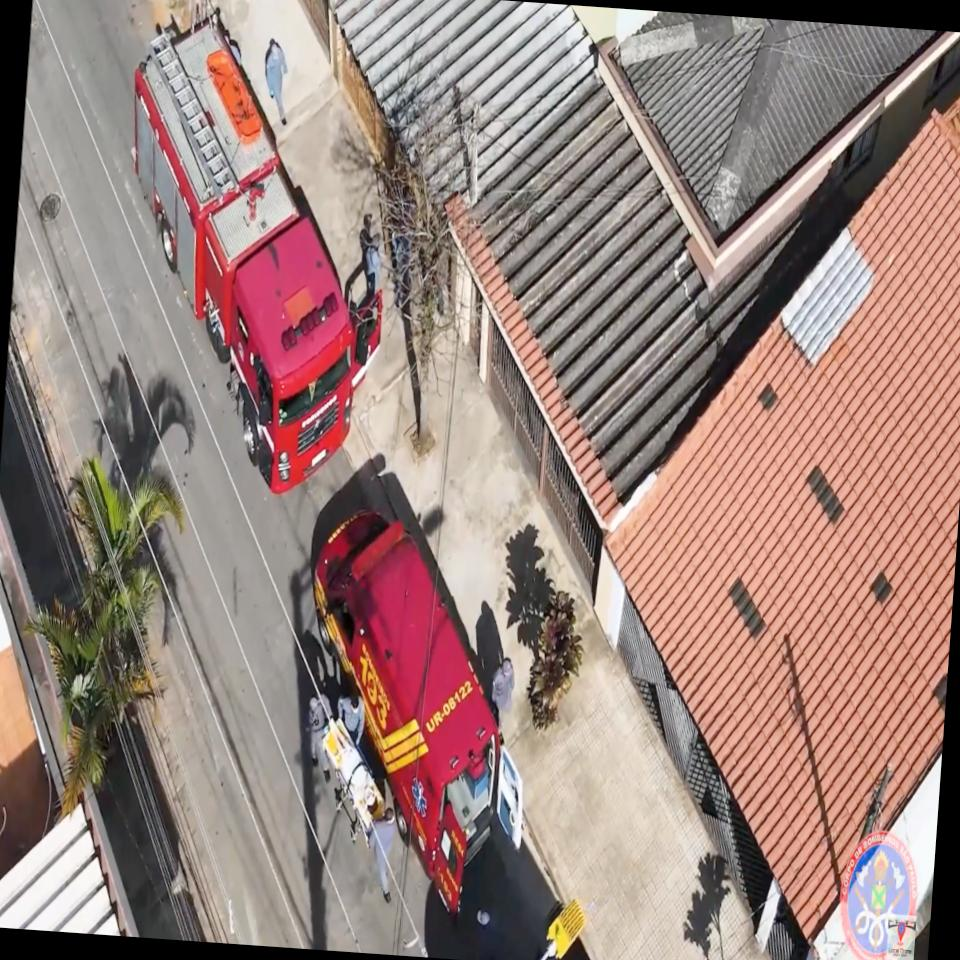viatura: (166, 100, 377, 506)
